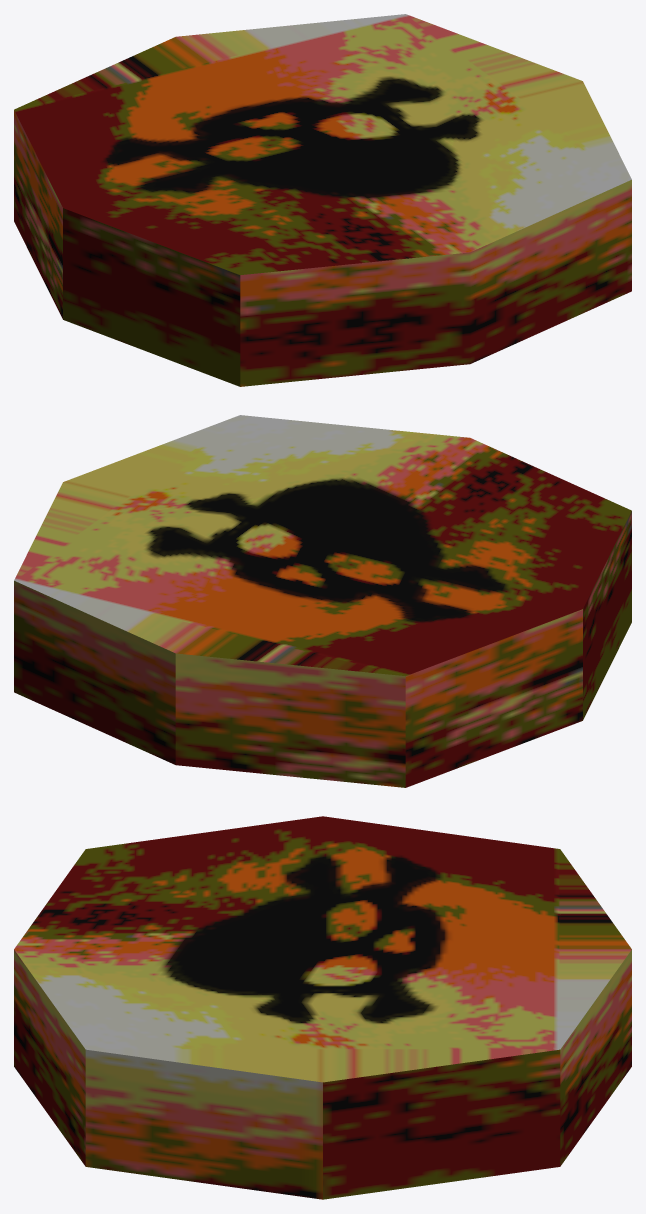
Rendered from Mark_1.fbx.
3 views of the same model, one above another, from view 1: azimuth 30°, elevation 25°; view 2: azimuth 150°, elevation 25°; view 3: azimuth 270°, elevation 25° (orthographic). The views are drawn at different scales.
Visible parts, largest first — view 1: Cube.005; view 2: Cube.005; view 3: Cube.005.
Boxes of the visible parts, bbox=[...] form: Cube.005: bbox=[14, 14, 631, 386]; Cube.005: bbox=[14, 415, 631, 787]; Cube.005: bbox=[14, 816, 631, 1199].
Bounding box in the file's own units: 23.24 × 4.77 × 22.8.
